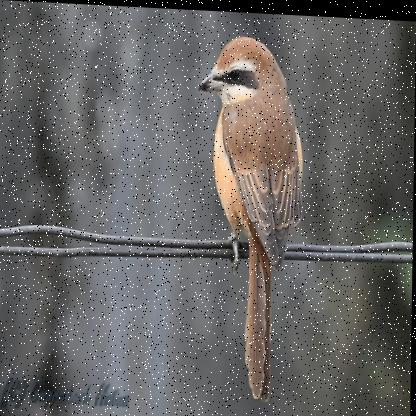Burung: (195, 32, 305, 409)
